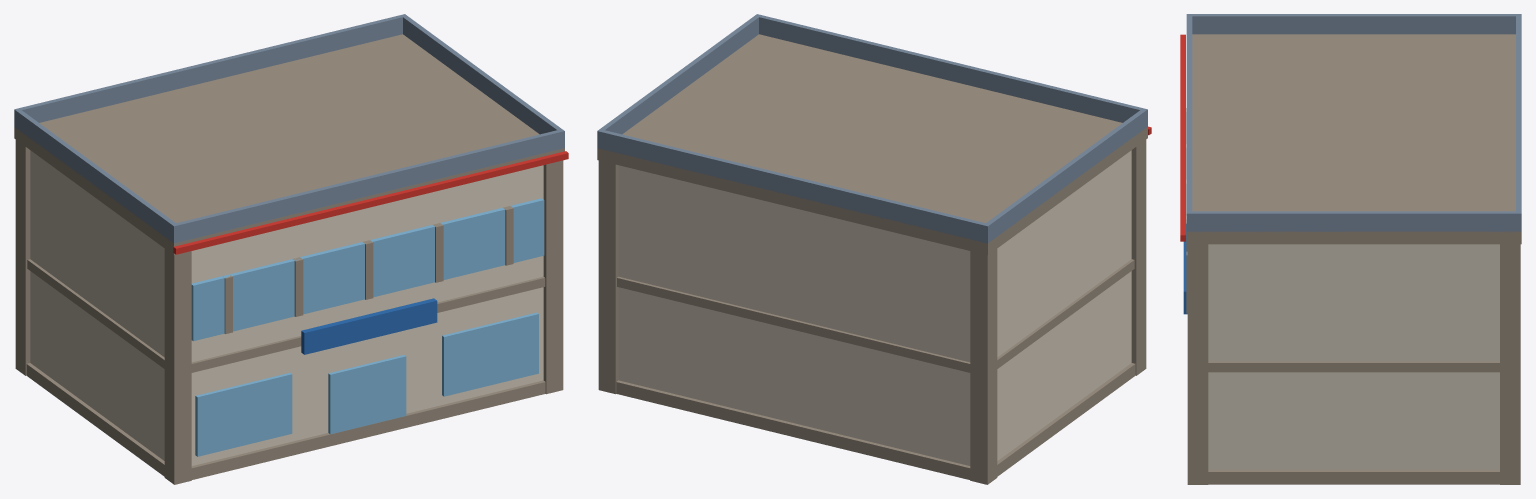
Rendered from pitsOffice.glb.
3 views of the same model, side by side, from view 1: azimuth 30°, elevation 25°; view 2: azimuth 150°, elevation 25°; view 3: azimuth 270°, elevation 25° (orthographic). The views are drawn at different scales.
Visible parts, largest first — view 1: pitsOffice_concreteDark, pitsOffice_concrete, pitsOffice_glass, pitsOffice_steel, pitsOffice_red, pitsOffice_blue; view 2: pitsOffice_concrete, pitsOffice_concreteDark, pitsOffice_steel; view 3: pitsOffice_concreteDark, pitsOffice_concrete, pitsOffice_steel, pitsOffice_red.
Part boxes in pixels (x1,y1,x2,y2): pitsOffice_concreteDark: (14,34,564,484); pitsOffice_concrete: (30,150,543,465); pitsOffice_glass: (191,198,544,456); pitsOffice_steel: (14,14,564,243); pitsOffice_red: (173,151,568,254); pitsOffice_blue: (301,298,437,354); pitsOffice_concrete: (618,150,1131,465); pitsOffice_concreteDark: (597,34,1147,484); pitsOffice_steel: (597,14,1147,243); pitsOffice_concreteDark: (1186,34,1521,484); pitsOffice_concrete: (1208,244,1499,469); pitsOffice_steel: (1186,14,1521,232); pitsOffice_red: (1180,34,1185,241).
Size of the model in its own units: 20.7 by 13.06 by 14.88.
